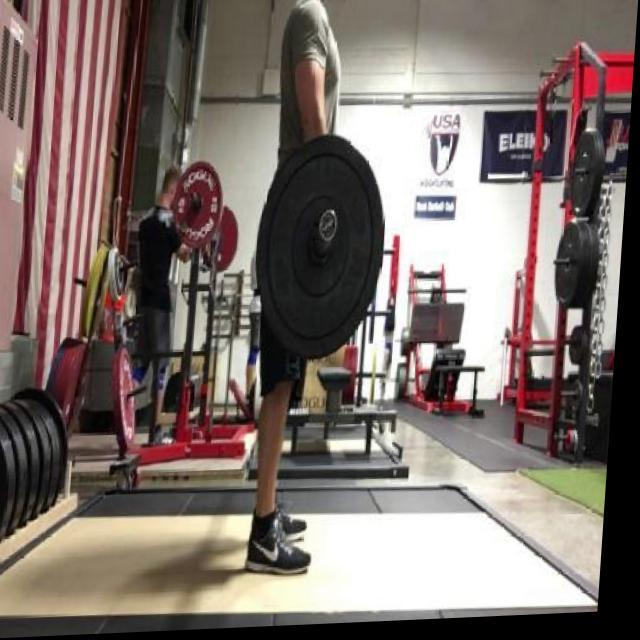barbell: (252, 131, 396, 369)
